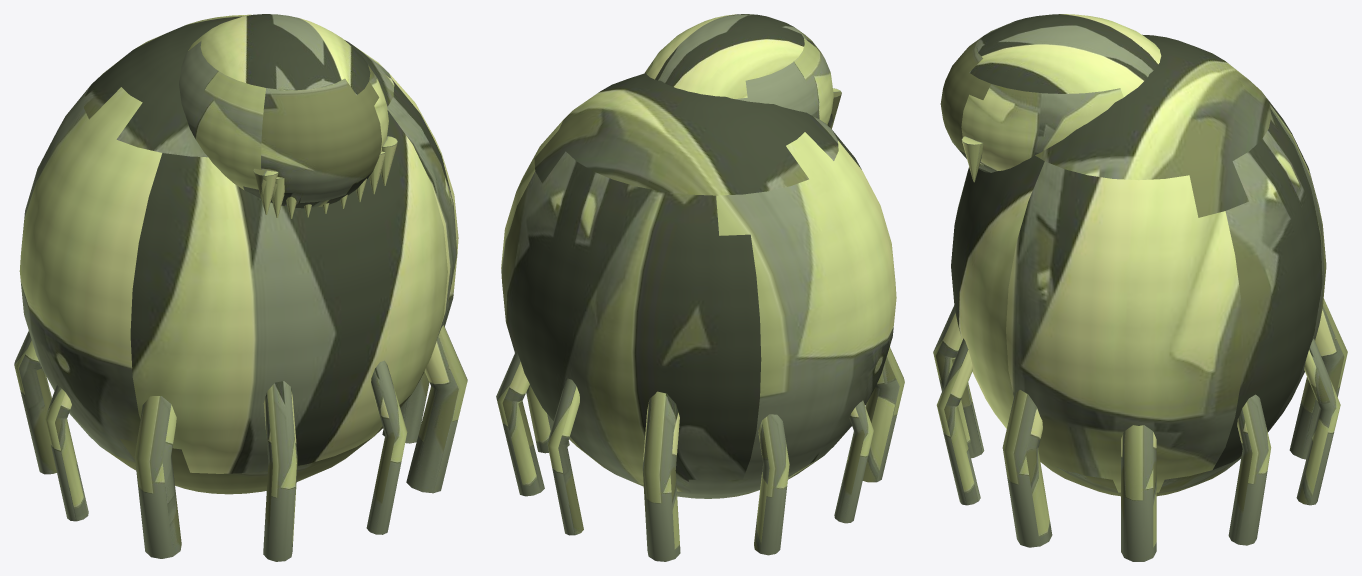
The model's file is MN_bacteria.glb.
3 renders of one model, left to right at view 1: azimuth 30°, elevation 25°; view 2: azimuth 150°, elevation 25°; view 3: azimuth 270°, elevation 25°, orthographic. The views are drawn at different scales.
Visible parts, largest first — view 1: MN_bacteria; view 2: MN_bacteria; view 3: MN_bacteria.
Part boxes in pixels (bbox=[...]): MN_bacteria: bbox=[14, 14, 467, 561]; MN_bacteria: bbox=[496, 14, 904, 561]; MN_bacteria: bbox=[933, 14, 1347, 561].
Size of the model in its own units: 2.43 by 2.82 by 2.32.
1 material, 1 textured.
